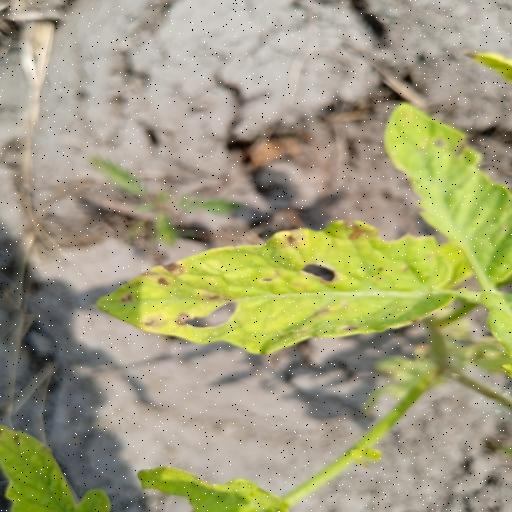Tomato_Brown_Spots: (80, 216, 476, 364)
